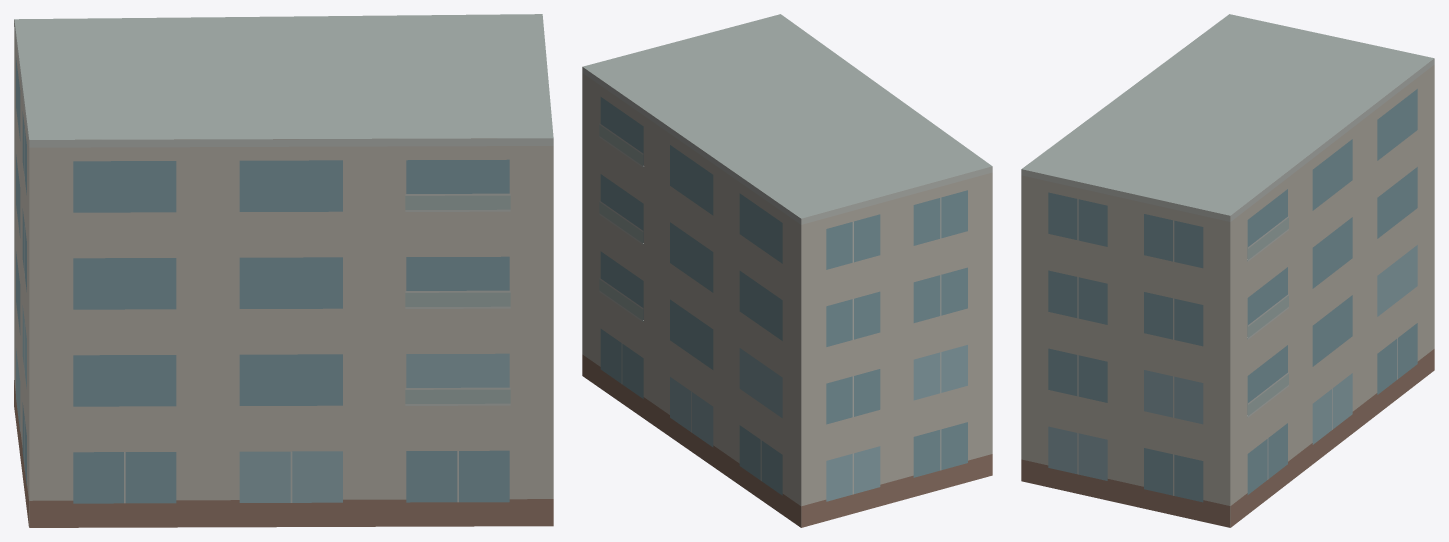
Rendered from survey-upis-32870074.glb.
The picture shows the model from 3 angles, left to right: view 1: azimuth 30°, elevation 25°; view 2: azimuth 150°, elevation 25°; view 3: azimuth 270°, elevation 25°; orthographic projection. The views are drawn at different scales.
Visible parts, largest first — view 1: survey-upis-32870074.tmp; view 2: survey-upis-32870074.tmp; view 3: survey-upis-32870074.tmp.
Boxes of the visible parts, x1,y1,x2,y2 form: survey-upis-32870074.tmp: (14,14,553,527); survey-upis-32870074.tmp: (582,14,992,527); survey-upis-32870074.tmp: (1021,14,1434,527).
Bounding box in the file's own units: 16.93 × 12.2 × 14.65.
